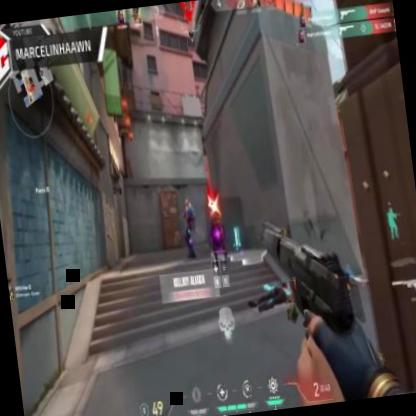enemy: (180, 197, 199, 262)
enemy_head: (183, 198, 190, 208)
